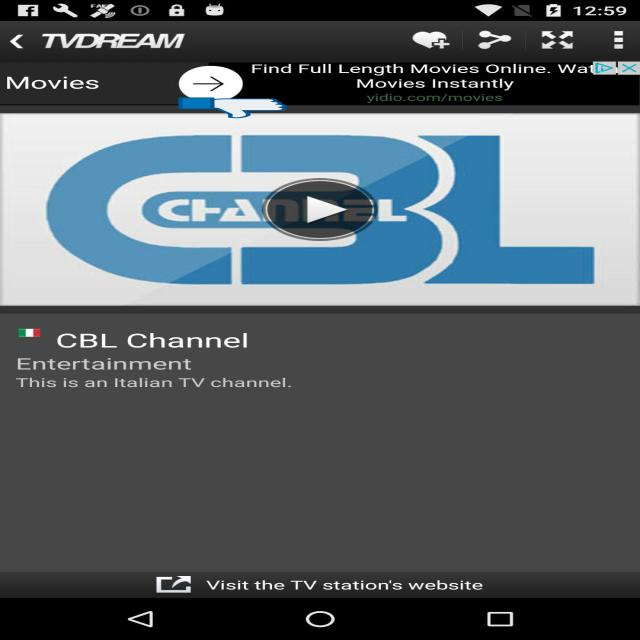obstruction: (178, 97, 287, 119)
